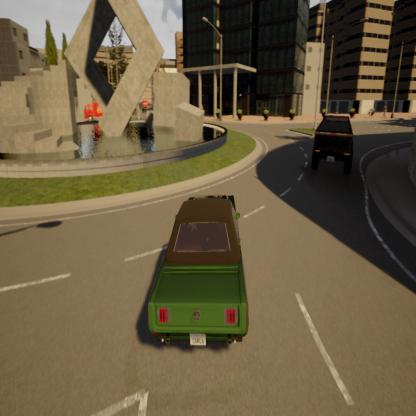Cars: (125, 172, 277, 351), (304, 94, 366, 190)
